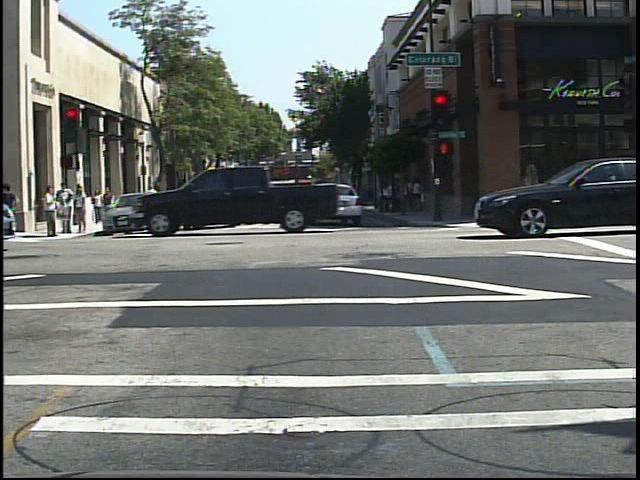person: (145, 180, 163, 220), (144, 180, 160, 214), (92, 186, 105, 227)
